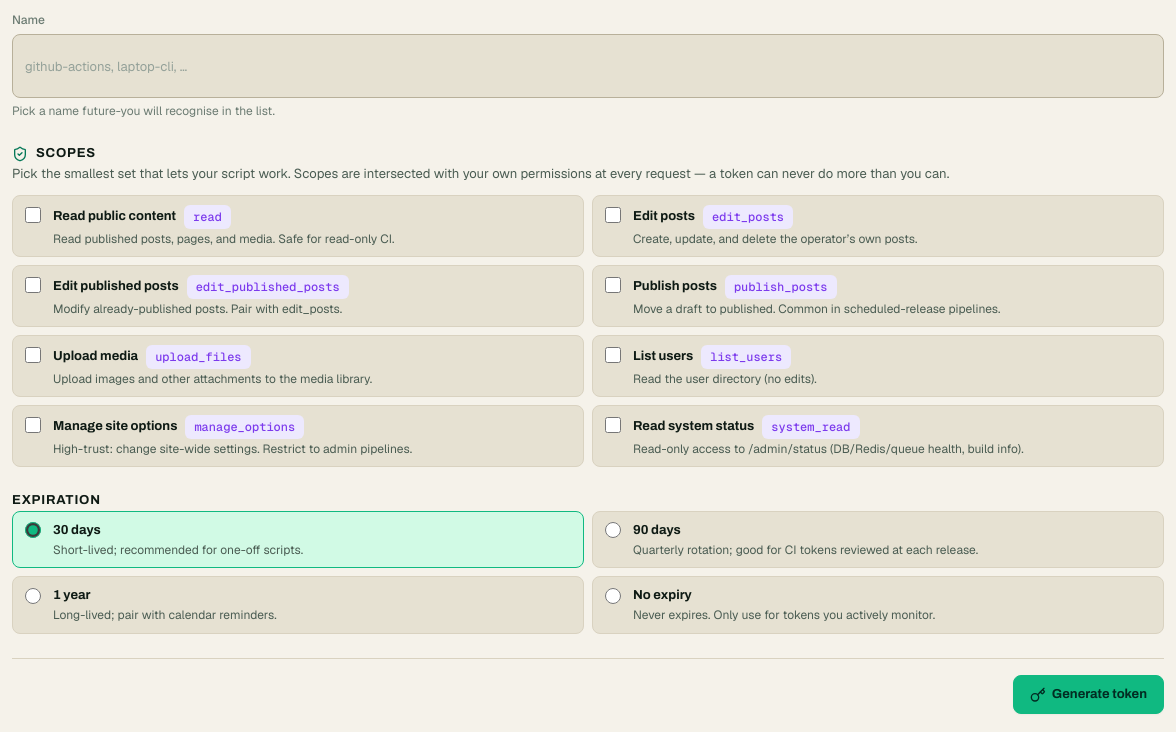
Test case: NewTokenForm › rejects empty scope list
Type "ci" into the field with test id "new-token-name" at (588, 66), box [12,34,1164,98]
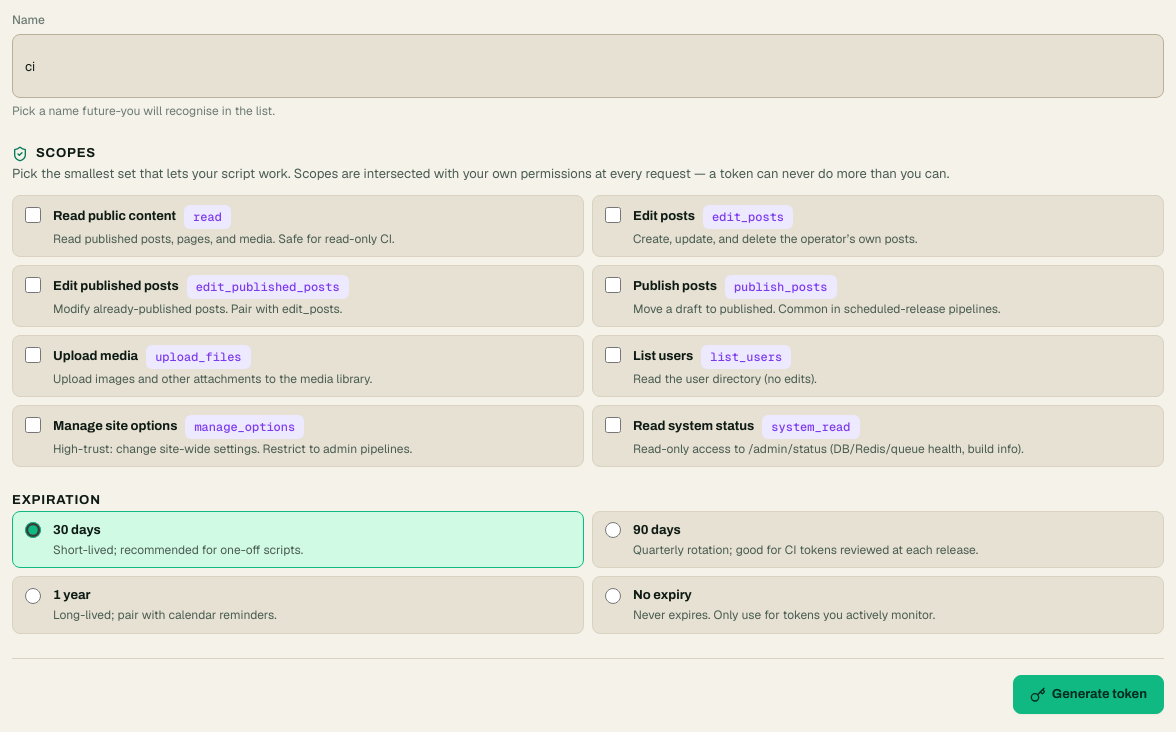
Submit the form with test id "new-token-form"
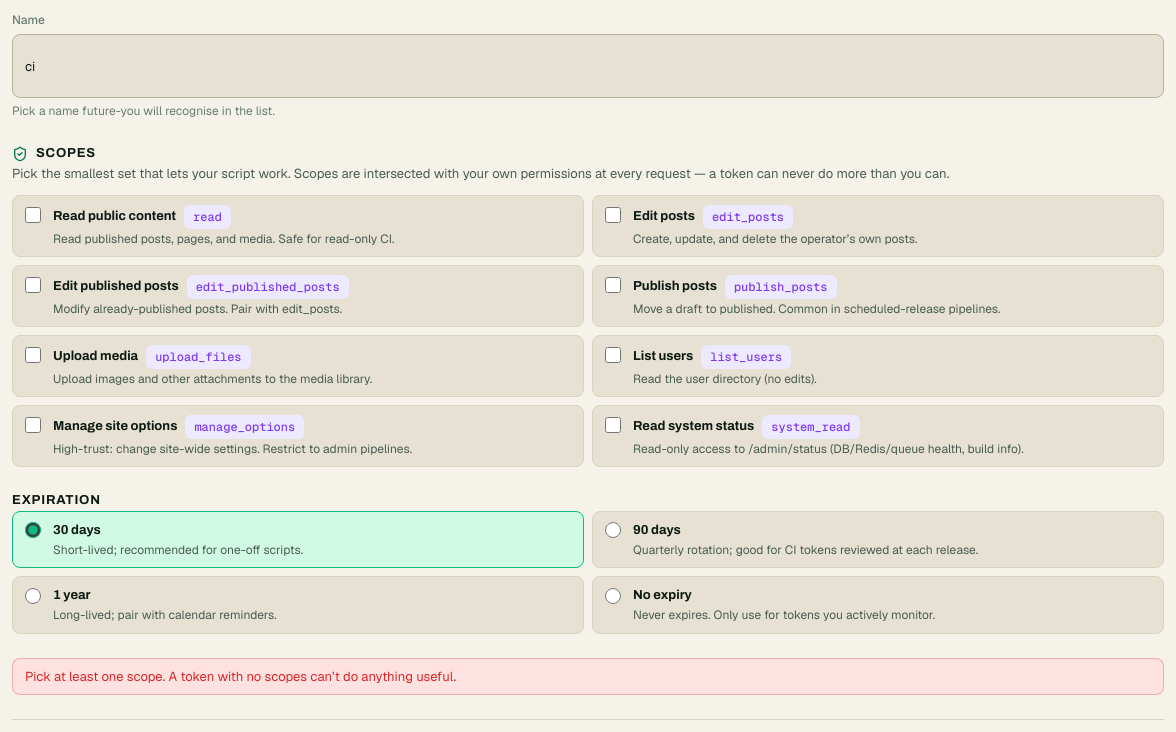
Expected: the message with test id "new-token-error" shows "at least one scope", [25,668,456,685]
